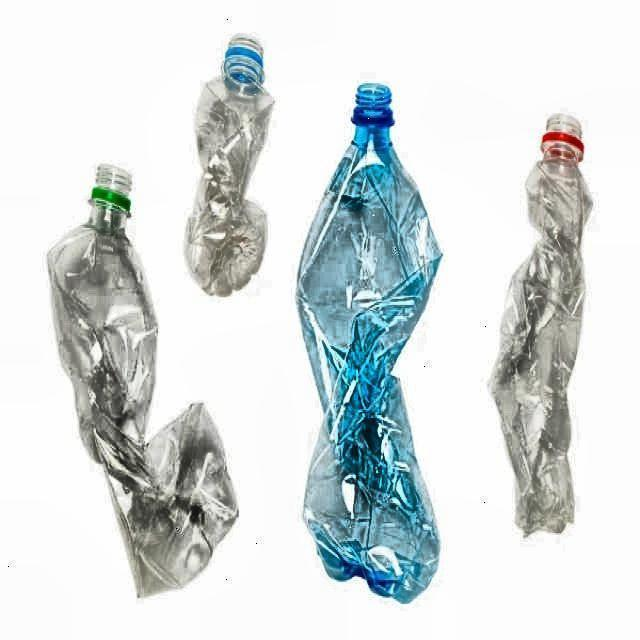plastic: (44, 161, 241, 600), (296, 82, 444, 608), (486, 113, 594, 539), (182, 26, 277, 300)
